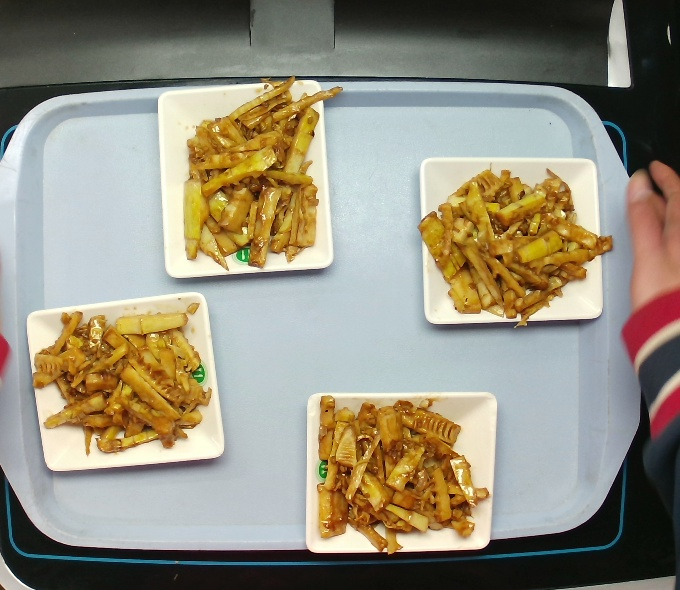wcq-QingChaoChunSun: (26, 291, 215, 462), (179, 78, 343, 275), (303, 389, 492, 559), (420, 164, 610, 318)
